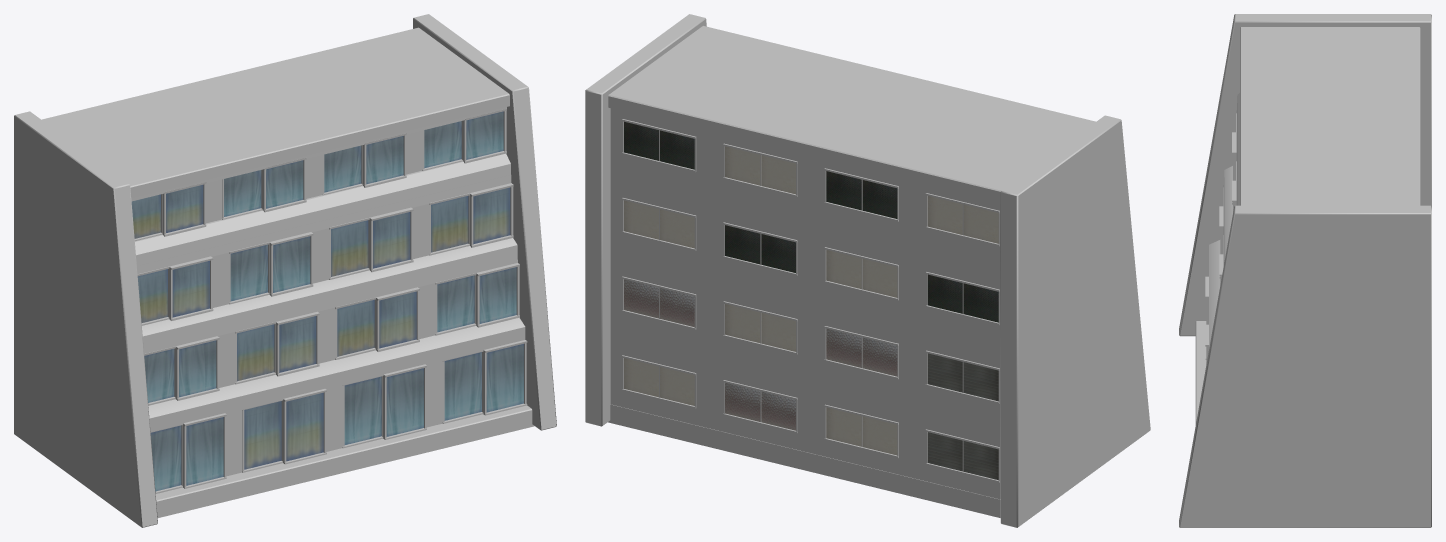
Rendered from apart_high_6a.fbx.
The picture shows the model from 3 angles, left to right: view 1: azimuth 30°, elevation 25°; view 2: azimuth 150°, elevation 25°; view 3: azimuth 270°, elevation 25°; orthographic projection. The views are drawn at different scales.
Visible parts, largest first — view 1: apart_high_6a; view 2: apart_high_6a; view 3: apart_high_6a.
Part boxes in pixels (bbox=[...]): apart_high_6a: bbox=[14, 14, 556, 527]; apart_high_6a: bbox=[585, 14, 1150, 527]; apart_high_6a: bbox=[1179, 14, 1431, 527].
Size of the model in its own units: 14.47 by 10.69 by 7.73.
